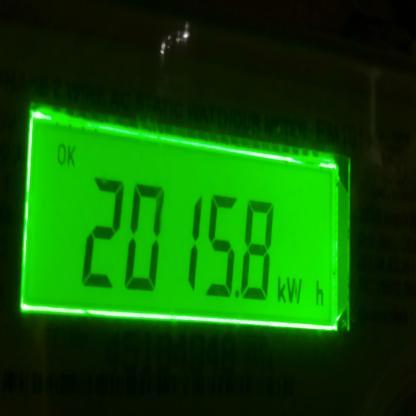.: (272, 273, 331, 310)
0: (236, 194, 276, 306), (228, 288, 243, 304)
1: (123, 181, 168, 296)
2: (183, 188, 207, 297)
3: (73, 174, 124, 289)
6: (201, 193, 235, 297)
